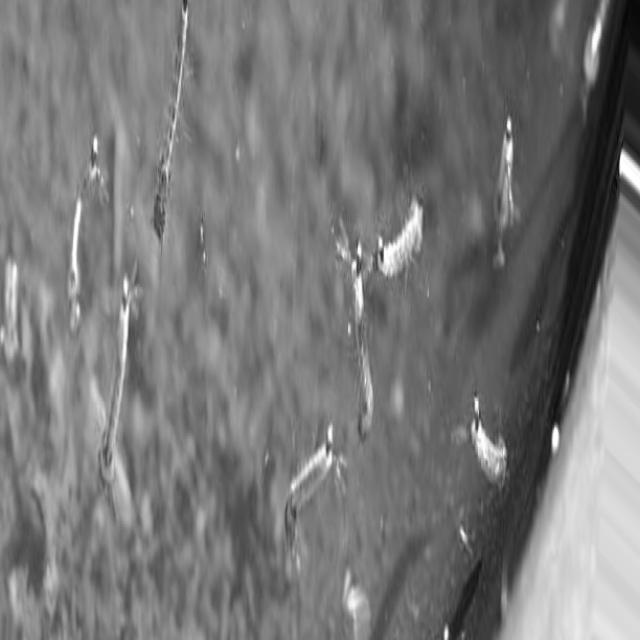larvas: (150, 0, 189, 232), (100, 270, 139, 478), (63, 148, 104, 330), (284, 440, 336, 529), (574, 0, 616, 108), (350, 250, 372, 434), (376, 202, 425, 272), (494, 121, 515, 265), (2, 247, 23, 386), (468, 406, 506, 479)
